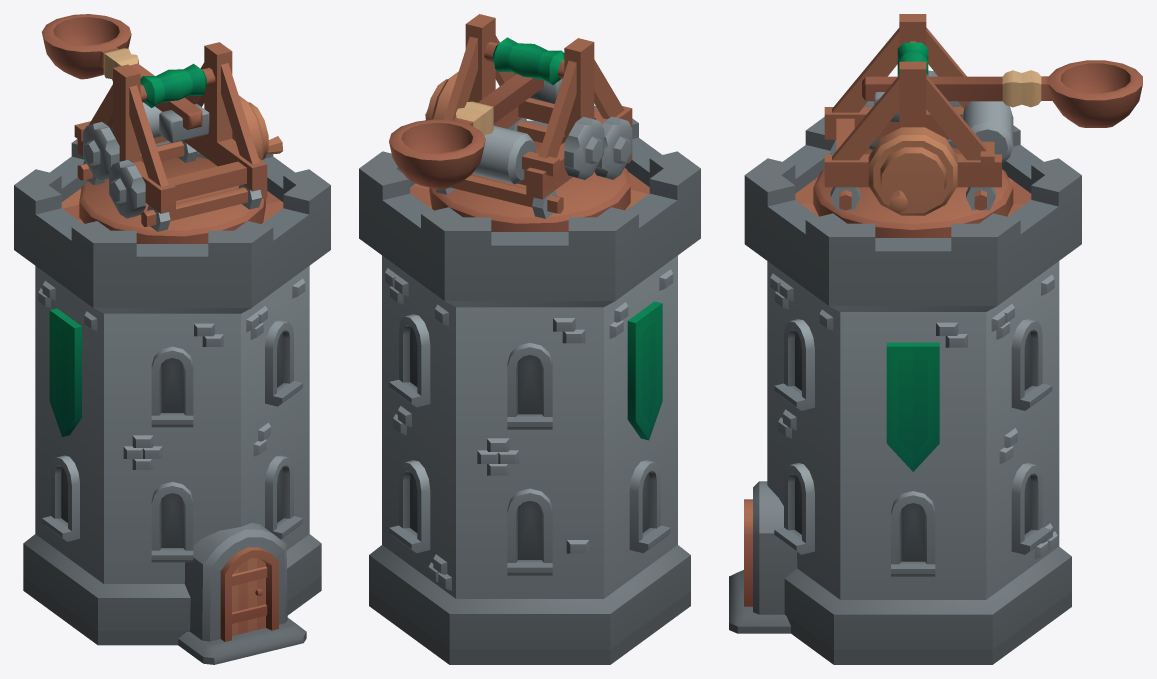
The model's file is building_tower_catapult_green.gltf.
The picture shows the model from 3 angles, left to right: view 1: azimuth 30°, elevation 25°; view 2: azimuth 150°, elevation 25°; view 3: azimuth 270°, elevation 25°; orthographic projection. The views are drawn at different scales.
Parts seen in each view (by area): view 1: building_tower_catapult_green, catapult_turret_green, catapult_arm_green; view 2: building_tower_catapult_green, catapult_turret_green, catapult_arm_green; view 3: building_tower_catapult_green, catapult_turret_green, catapult_arm_green.
Part boxes in pixels (x1,y1,x2,y2): building_tower_catapult_green: (14, 139, 330, 664); catapult_turret_green: (74, 42, 283, 243); catapult_arm_green: (42, 14, 209, 142); building_tower_catapult_green: (359, 106, 700, 664); catapult_turret_green: (425, 14, 632, 231); catapult_arm_green: (389, 74, 562, 189); building_tower_catapult_green: (729, 117, 1081, 664); catapult_turret_green: (813, 14, 1013, 237); catapult_arm_green: (862, 60, 1142, 127).
Size of the model in its own units: 0.9298 by 1.96 by 1.3.
1 material, 1 textured.
